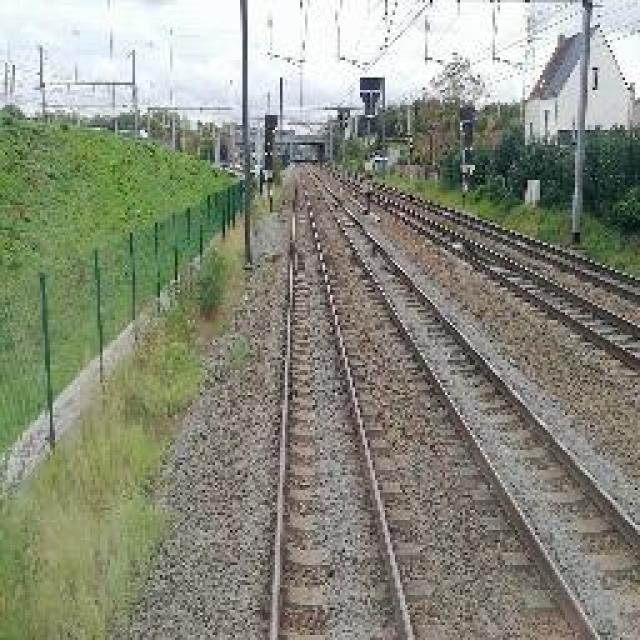rail: (250, 164, 439, 639)
